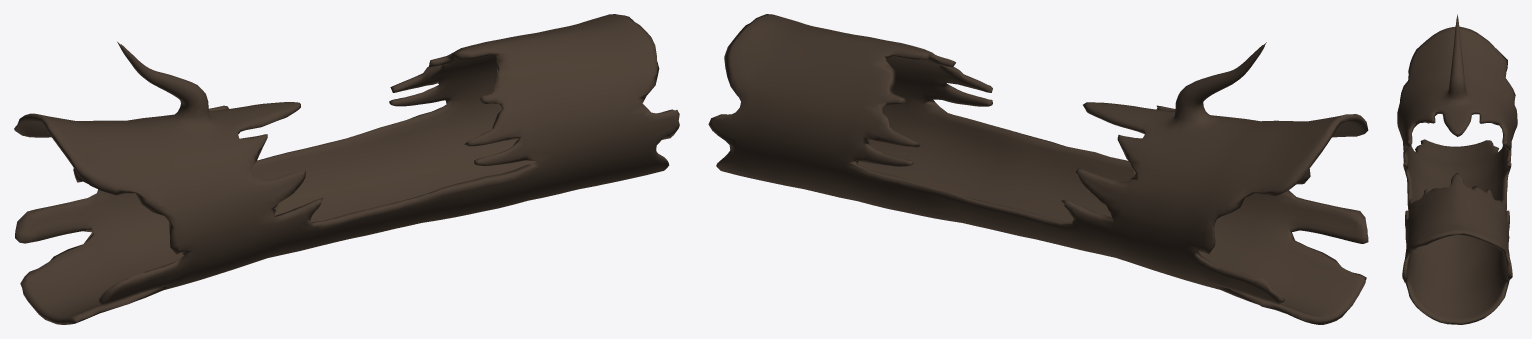
Rendered from TroncoHueco_low.fbx.
The picture shows the model from 3 angles, left to right: view 1: azimuth 30°, elevation 25°; view 2: azimuth 150°, elevation 25°; view 3: azimuth 270°, elevation 25°; orthographic projection. The views are drawn at different scales.
Parts seen in each view (by area): view 1: TroncoHueco_low; view 2: TroncoHueco_low; view 3: TroncoHueco_low.
Boxes of the visible parts, <box> form: TroncoHueco_low: <box>14,14,679,324</box>; TroncoHueco_low: <box>708,14,1368,324</box>; TroncoHueco_low: <box>1397,14,1517,324</box>.
Size of the model in its own units: 10.9 by 4.45 by 3.07.
